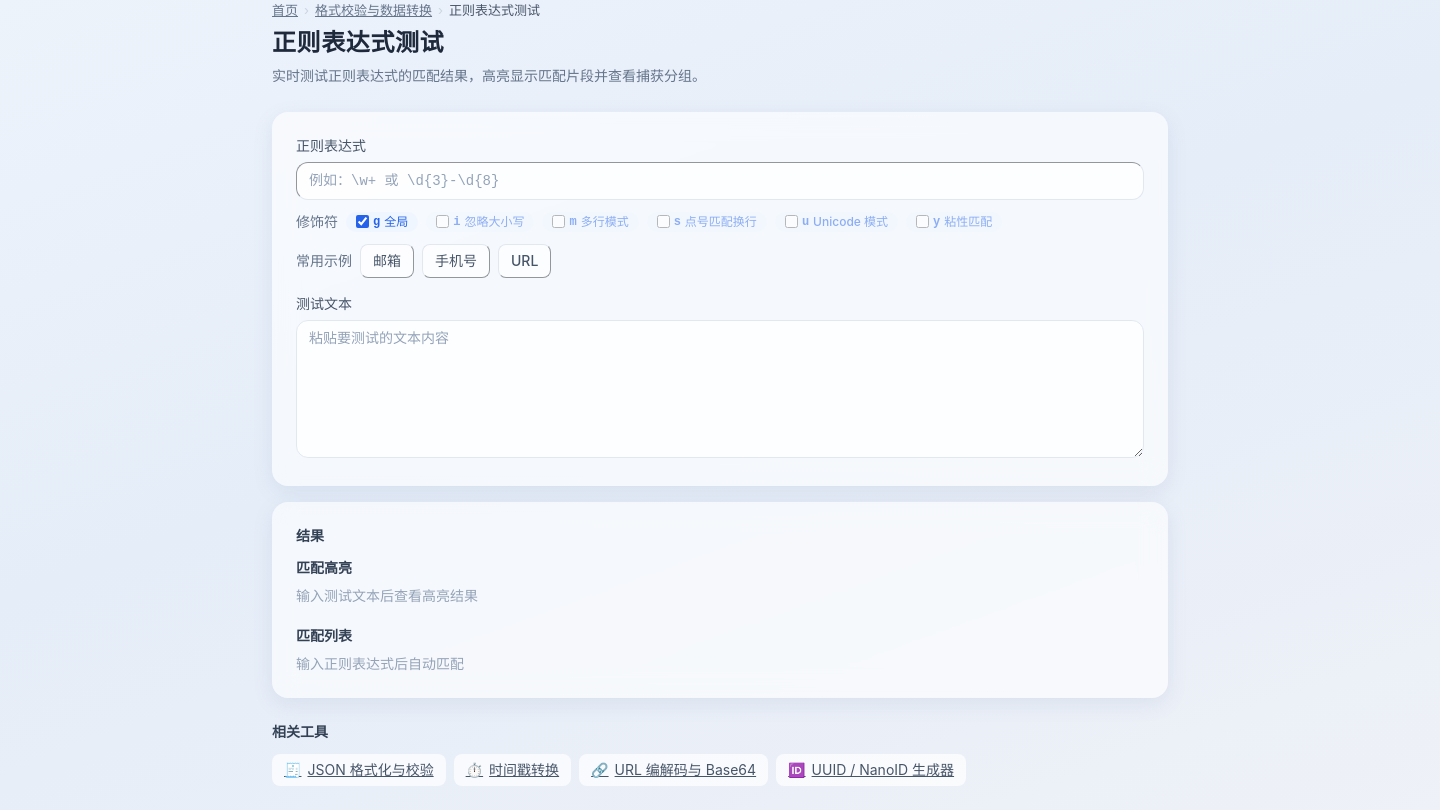
Test case: RegexTester 组件测试 › 匹配计数与高亮（捕获分组）
The width and height of the screenshot is (1440, 810).
Type "a(b)c" into the field labelled "正则表达式" at (720, 181), box [296,162,1144,200]
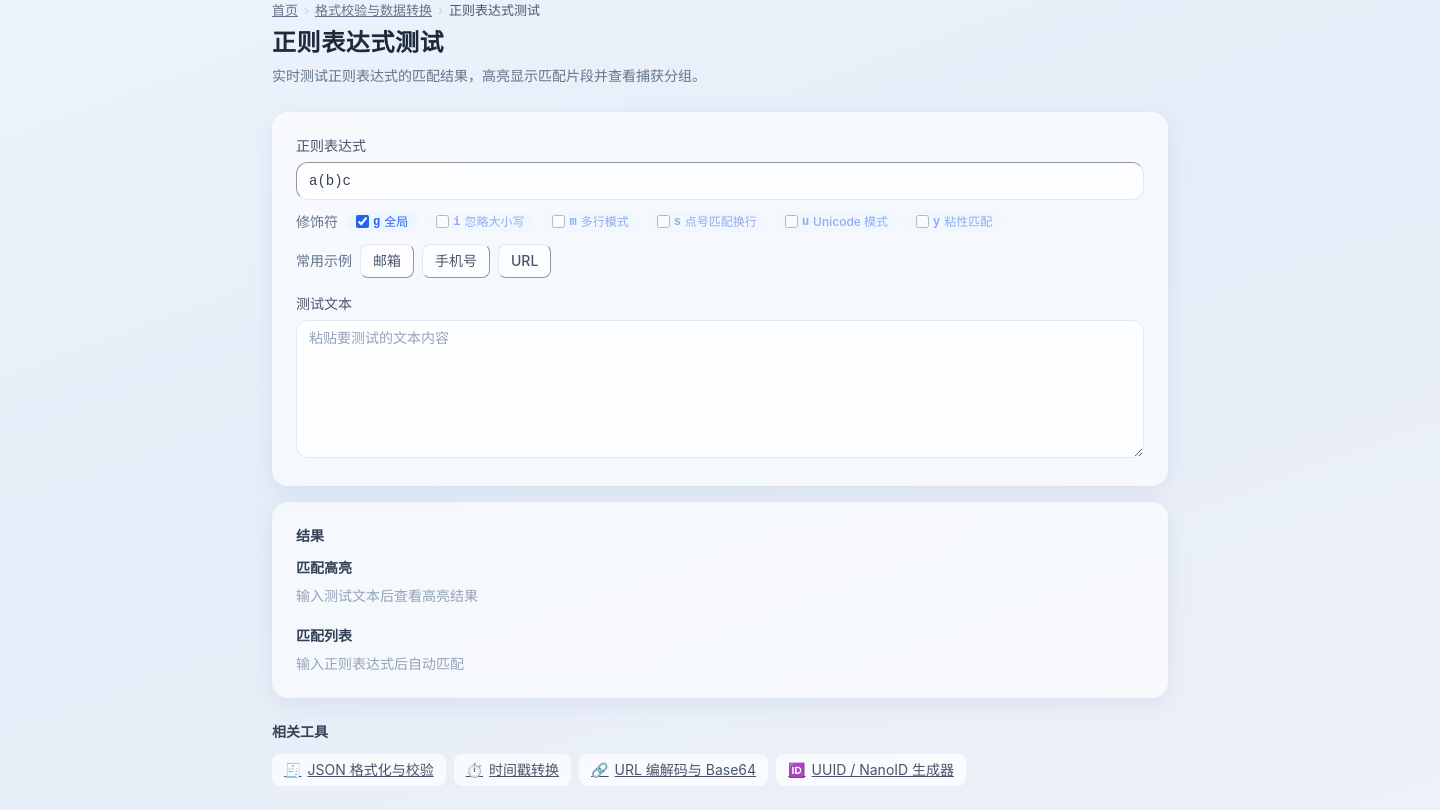
Type "abc abc" into the text box labelled "测试文本" at (720, 389), box [296,320,1144,458]
Wait 400 ms
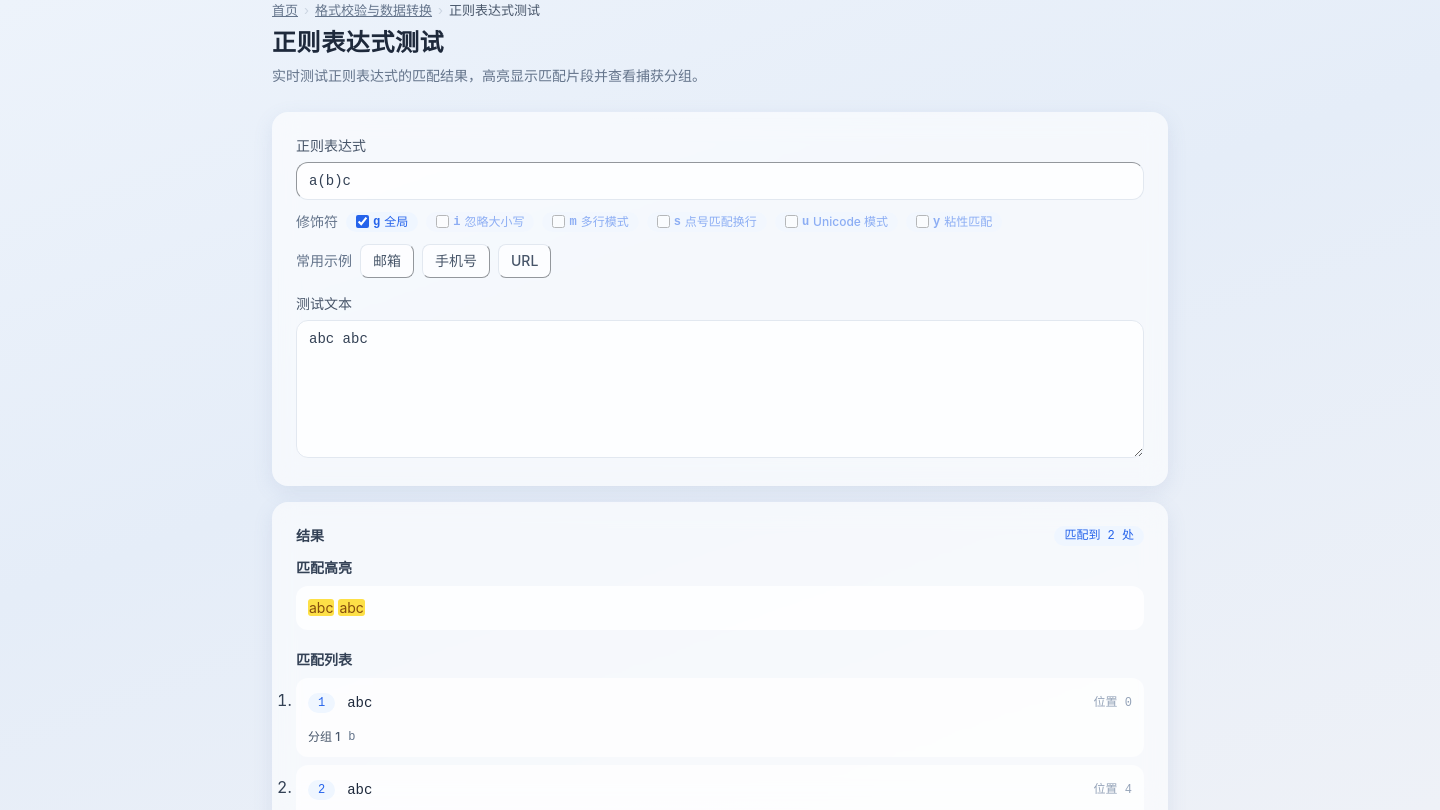
Now the text "2" is shown, box [1064,529,1134,543]
